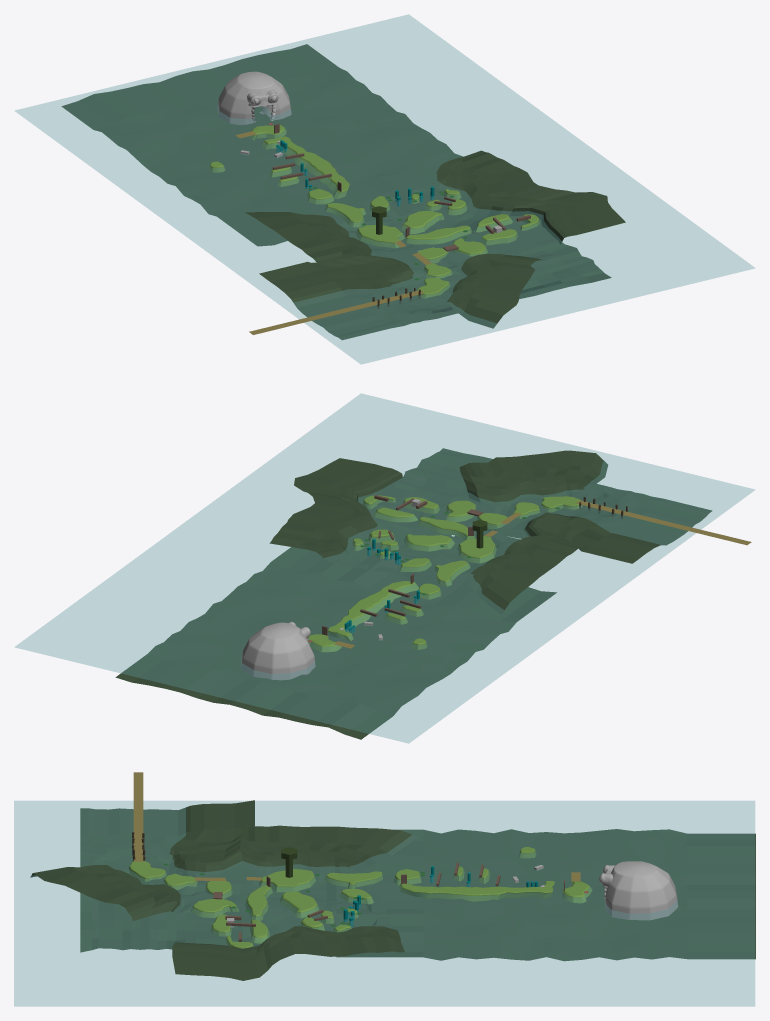
Rendered from Blocking_Waterpath_Beta.fbx.
3 renders of one model, top to bottom at view 1: azimuth 30°, elevation 25°; view 2: azimuth 150°, elevation 25°; view 3: azimuth 270°, elevation 25°, orthographic. The views are drawn at different scales.
Visible parts, largest first — view 1: water, waterground, grass_wetlands1, grass_wetlands7, grass_wetlands6, grass_wetlands5, big_rock_lp, island_32, dock_4, island_30, island_15, island_10 (+1 smaller); view 2: water, waterground, grass_wetlands1, grass_wetlands7, grass_wetlands6, grass_wetlands5, big_rock_lp, island_32, dock_4, island_30, island_10, island_15; view 3: water, waterground, grass_wetlands1, grass_wetlands7, grass_wetlands5, grass_wetlands6, big_rock_lp, island_32, dock_4, island_30, island_14, island_10 (+4 smaller).
Boxes of the visible parts, left/top/right/bottom form: water: left=15, top=14, right=754, bottom=364; waterground: left=61, top=44, right=462, bottom=246; grass_wetlands1: left=259, top=223, right=611, bottom=339; grass_wetlands7: left=359, top=150, right=625, bottom=253; grass_wetlands6: left=424, top=253, right=544, bottom=328; grass_wetlands5: left=245, top=207, right=441, bottom=264; big_rock_lp: left=217, top=71, right=291, bottom=124; island_32: left=262, top=136, right=349, bottom=198; dock_4: left=249, top=290, right=423, bottom=334; island_30: left=356, top=225, right=404, bottom=248; island_15: left=404, top=225, right=471, bottom=244; island_10: left=401, top=211, right=444, bottom=233; water: left=15, top=393, right=754, bottom=743; waterground: left=115, top=546, right=556, bottom=739; grass_wetlands1: left=377, top=448, right=711, bottom=563; grass_wetlands7: left=269, top=458, right=457, bottom=577; grass_wetlands6: left=459, top=450, right=607, bottom=515; grass_wetlands5: left=422, top=527, right=583, bottom=614; big_rock_lp: left=241, top=622, right=315, bottom=680; island_32: left=327, top=581, right=418, bottom=641; dock_4: left=576, top=500, right=751, bottom=545; island_30: left=457, top=536, right=496, bottom=563; island_10: left=404, top=534, right=454, bottom=551; island_15: left=418, top=517, right=475, bottom=539; water: left=14, top=801, right=754, bottom=1006; waterground: left=336, top=829, right=755, bottom=961; grass_wetlands1: left=80, top=800, right=254, bottom=952; grass_wetlands7: left=172, top=892, right=404, bottom=980; grass_wetlands5: left=240, top=825, right=418, bottom=907; grass_wetlands6: left=30, top=864, right=213, bottom=920; big_rock_lp: left=605, top=861, right=678, bottom=920; island_32: left=399, top=881, right=554, bottom=901; dock_4: left=133, top=772, right=143, bottom=861; island_30: left=259, top=869, right=315, bottom=892; island_14: left=324, top=871, right=382, bottom=888; island_10: left=280, top=891, right=318, bottom=918.
Bounding box in the file's own units: 92.32 × 7.75 × 124.
